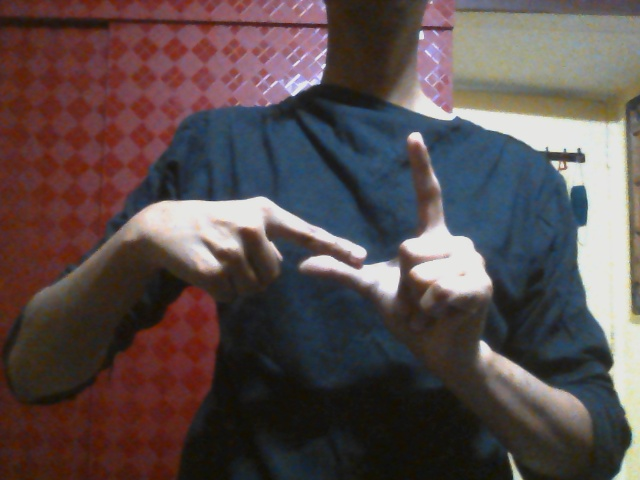J: (141, 130, 490, 350)
